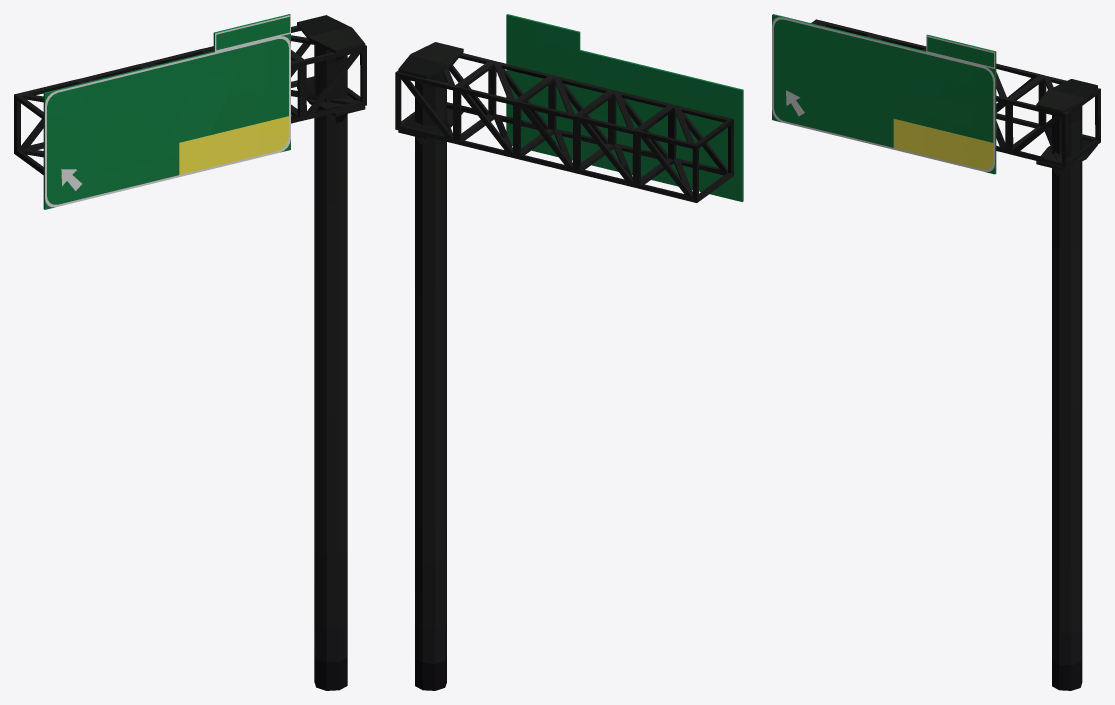
Rendered from Highway_Segment_Sign.fbx.
3 renders of one model, left to right at view 1: azimuth 30°, elevation 25°; view 2: azimuth 150°, elevation 25°; view 3: azimuth 330°, elevation 25°, orthographic. The views are drawn at different scales.
Parts seen in each view (by area): view 1: SM_City_Highway_Sign_01a.mo; view 2: SM_City_Highway_Sign_01a.mo; view 3: SM_City_Highway_Sign_01a.mo.
Boxes of the visible parts, left/top/right/bottom form: SM_City_Highway_Sign_01a.mo: left=14, top=14, right=366, bottom=690; SM_City_Highway_Sign_01a.mo: left=395, top=14, right=743, bottom=690; SM_City_Highway_Sign_01a.mo: left=772, top=14, right=1100, bottom=690.
Bounding box in the file's own units: 510 × 1040 × 109.
